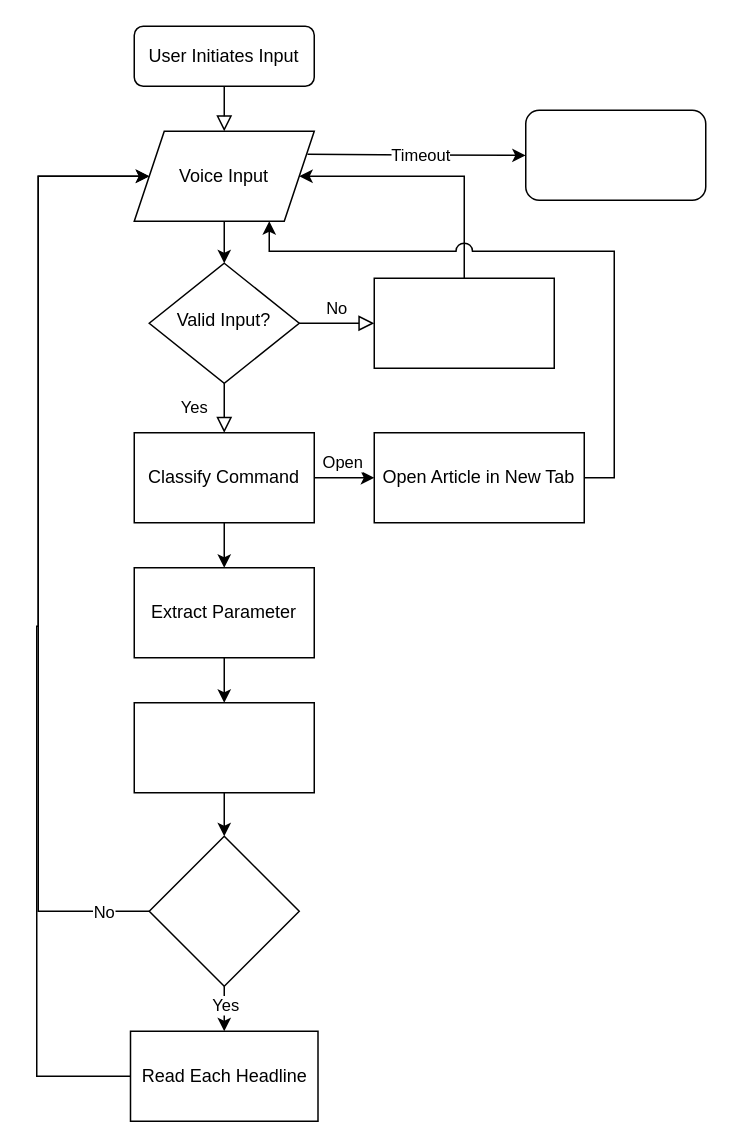
Some shapes in this 732 by 1148 pixel diagram are drawn without their labels. The shapes that lost their labels are listed below. From the top down, each one's centre as x and y in pixels, then its label:
(x=615, y=154): Stop Listening
(x=463, y=322): Try Again
(x=223, y=747): Update Page
(x=223, y=910): Read Headlines?
